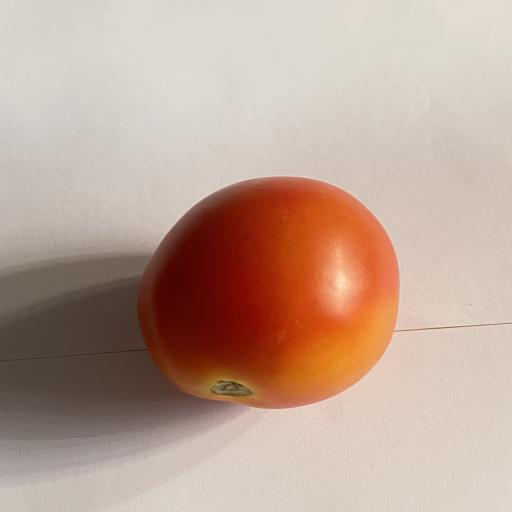ripe: (138, 177, 399, 408)
